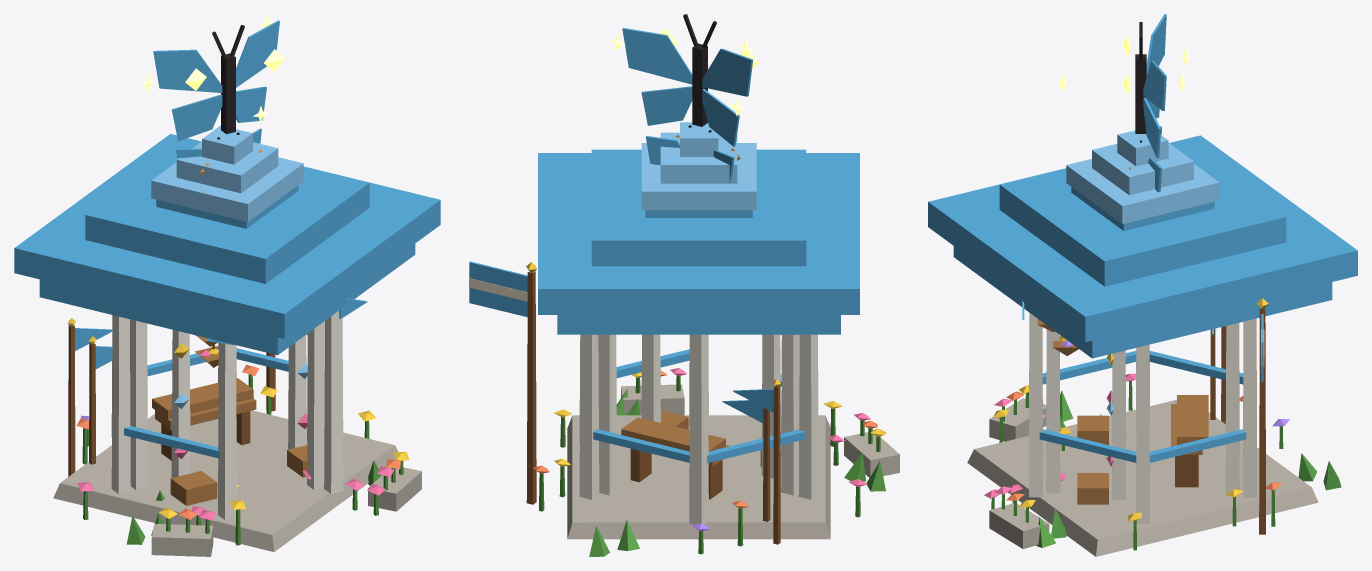
The model's file is butterfly-garden-pavilion-blocky.glb.
3 views of the same model, side by side, from view 1: azimuth 30°, elevation 25°; view 2: azimuth 150°, elevation 25°; view 3: azimuth 270°, elevation 25° (orthographic). The views are drawn at different scales.
Visible parts, largest first — view 1: lv3, lv2, lv1; view 2: lv3, lv2, lv1; view 3: lv3, lv2, lv1.
Part boxes in pixels (box(x1,y1,x2,y2)): lv3: box(14, 14, 440, 556); lv2: box(39, 128, 415, 535); lv1: box(155, 330, 311, 505); lv3: box(469, 14, 899, 556); lv2: box(554, 125, 866, 550); lv1: box(630, 334, 781, 499); lv3: box(928, 14, 1357, 556); lv2: box(953, 126, 1332, 538); lv1: box(1060, 350, 1202, 504).
Bounding box in the file's own units: 2.16 × 2.53 × 2.16.
